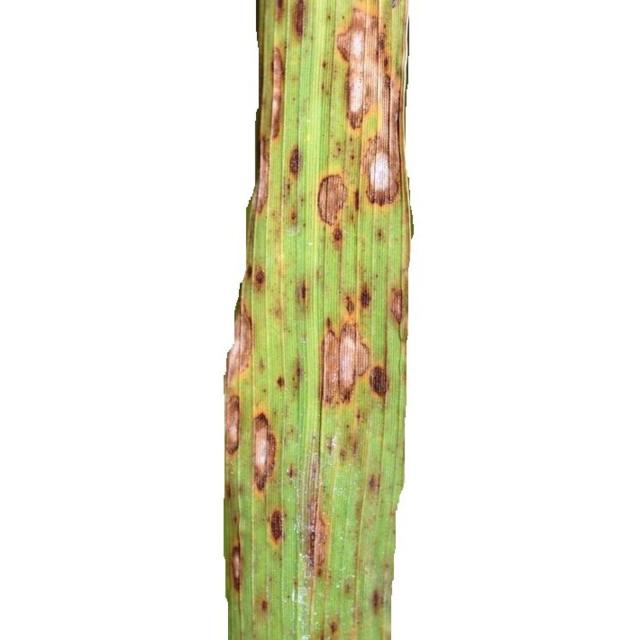Brown spot: (214, 0, 430, 640)
